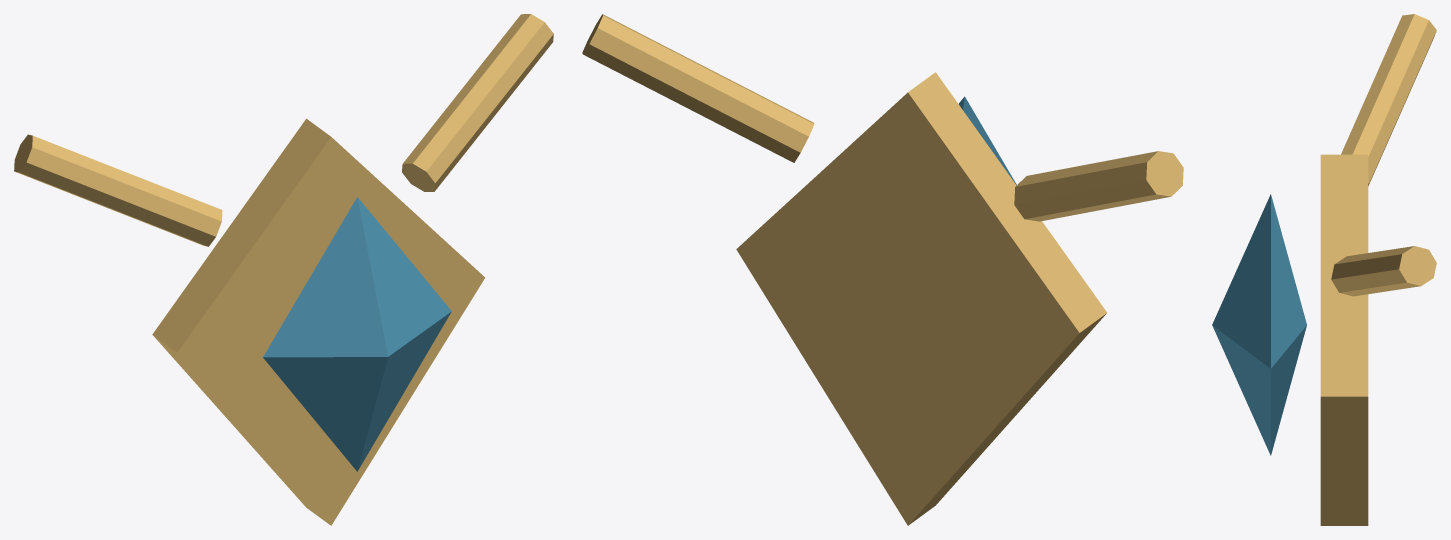
The model's file is priestess_clasp.glb.
3 renders of one model, left to right at view 1: azimuth 30°, elevation 25°; view 2: azimuth 150°, elevation 25°; view 3: azimuth 270°, elevation 25°, orthographic. The views are drawn at different scales.
Parts seen in each view (by area): view 1: Clasp gold mount; view 2: Clasp gold mount; view 3: Clasp gold mount.
Boxes of the visible parts, x1,y1,x2,y2 form: Clasp gold mount: (14, 14, 553, 525); Clasp gold mount: (582, 14, 1183, 525); Clasp gold mount: (1212, 14, 1436, 525).
Size of the model in its own units: 0.26 by 0.1931 by 0.0994.
